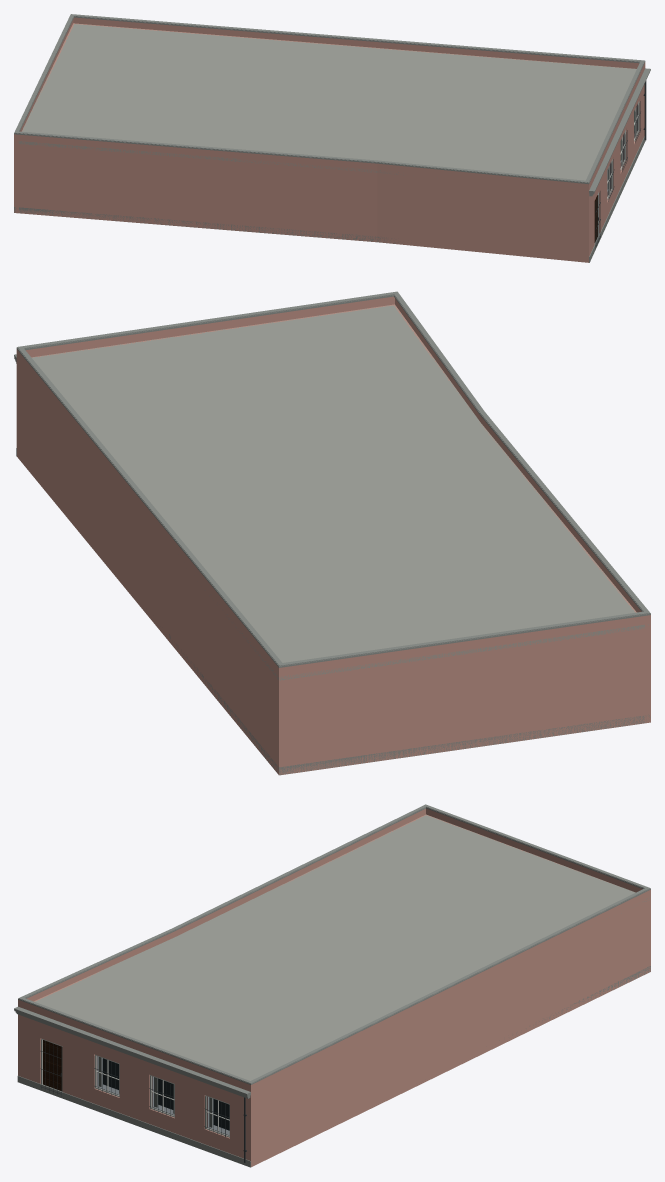
Rendered from building.glb.
3 views of the same model, one above another, from view 1: azimuth 30°, elevation 25°; view 2: azimuth 150°, elevation 25°; view 3: azimuth 270°, elevation 25° (orthographic). The views are drawn at different scales.
Visible parts, largest first — view 1: roof/main:0/roof_slab#0001, main:0/edge0/z0/main:0/edge0/z0/wall_0_0/core0, main:0/edge1/z0/main:0/edge1/z0/wall_0_0/core0, roof/main:0/parapet#0001, roof/main:0/parapet_cap#0002, roof/main:0/parapet_cap#0001, main:0/edge2/z0/main:0/edge2/z0/wall_0_0/core0, main:0/edge0/z0/plinth#0001, main:0/edge2/z0/proj_cornice_00/cornice_drip#0001, main:0/edge3/z0/main:0/edge3/z0/wall_0_0/core0, main:0/edge2/z0/plinth#0001; view 2: roof/main:0/roof_slab#0001, main:0/edge4/z0/main:0/edge4/z0/wall_0_0/core0, main:0/edge3/z0/main:0/edge3/z0/wall_0_0/core0, roof/main:0/parapet#0001, roof/main:0/parapet_cap#0002, roof/main:0/parapet_cap#0001, main:0/edge4/z0/plinth#0001; view 3: roof/main:0/roof_slab#0001, main:0/edge3/z0/main:0/edge3/z0/wall_0_0/core0, main:0/edge2/z0/main:0/edge2/z0/wall_0_0/core0, roof/main:0/parapet#0001, roof/main:0/parapet_cap#0002, roof/main:0/parapet_cap#0001, main:0/edge2/z0/plinth#0001, main:0/edge2/z0/proj_cornice_00/cornice_drip#0001, main:0/edge2/z0/opening_u4.11_v0.95/glazing#0001, main:0/edge2/z0/opening_u7.10_v0.95/glazing#0001, main:0/edge2/z0/opening_u10.08_v0.95/glazing#0001, main:0/edge2/z0/opening_u1.21_v0.04/door_leaf#0001.
Part boxes in pixels (left/top/right/bottom): roof/main:0/roof_slab#0001: left=18, top=24, right=643, bottom=180; main:0/edge0/z0/main:0/edge0/z0/wall_0_0/core0: left=14, top=141, right=377, bottom=242; main:0/edge1/z0/main:0/edge1/z0/wall_0_0/core0: left=377, top=170, right=588, bottom=262; roof/main:0/parapet#0001: left=14, top=17, right=645, bottom=190; roof/main:0/parapet_cap#0002: left=14, top=14, right=644, bottom=182; roof/main:0/parapet_cap#0001: left=14, top=16, right=645, bottom=184; main:0/edge2/z0/main:0/edge2/z0/wall_0_0/core0: left=589, top=85, right=644, bottom=256; main:0/edge0/z0/plinth#0001: left=14, top=207, right=377, bottom=242; main:0/edge2/z0/proj_cornice_00/cornice_drip#0001: left=589, top=68, right=650, bottom=192; main:0/edge3/z0/main:0/edge3/z0/wall_0_0/core0: left=73, top=23, right=634, bottom=133; main:0/edge2/z0/plinth#0001: left=589, top=136, right=645, bottom=262; roof/main:0/roof_slab#0001: left=32, top=305, right=648, bottom=680; main:0/edge4/z0/main:0/edge4/z0/wall_0_0/core0: left=279, top=625, right=650, bottom=775; main:0/edge3/z0/main:0/edge3/z0/wall_0_0/core0: left=16, top=358, right=278, bottom=774; roof/main:0/parapet#0001: left=16, top=296, right=650, bottom=676; roof/main:0/parapet_cap#0002: left=17, top=291, right=650, bottom=666; roof/main:0/parapet_cap#0001: left=16, top=295, right=650, bottom=667; main:0/edge4/z0/plinth#0001: left=279, top=714, right=650, bottom=775; roof/main:0/roof_slab#0001: left=26, top=814, right=650, bottom=1080; main:0/edge3/z0/main:0/edge3/z0/wall_0_0/core0: left=251, top=896, right=650, bottom=1166; main:0/edge2/z0/main:0/edge2/z0/wall_0_0/core0: left=21, top=1011, right=250, bottom=1160; roof/main:0/parapet#0001: left=18, top=808, right=650, bottom=1091; roof/main:0/parapet_cap#0002: left=18, top=804, right=650, bottom=1083; roof/main:0/parapet_cap#0001: left=18, top=807, right=650, bottom=1084; main:0/edge2/z0/plinth#0001: left=17, top=1076, right=250, bottom=1167; main:0/edge2/z0/proj_cornice_00/cornice_drip#0001: left=14, top=1006, right=250, bottom=1094; main:0/edge2/z0/opening_u4.11_v0.95/glazing#0001: left=96, top=1056, right=119, bottom=1094; main:0/edge2/z0/opening_u7.10_v0.95/glazing#0001: left=152, top=1076, right=174, bottom=1114; main:0/edge2/z0/opening_u10.08_v0.95/glazing#0001: left=207, top=1096, right=229, bottom=1135; main:0/edge2/z0/opening_u1.21_v0.04/door_leaf#0001: left=43, top=1040, right=62, bottom=1091.
Size of the model in its own units: 27.16 by 3.77 by 25.98.
9 materials, 1 textured.
